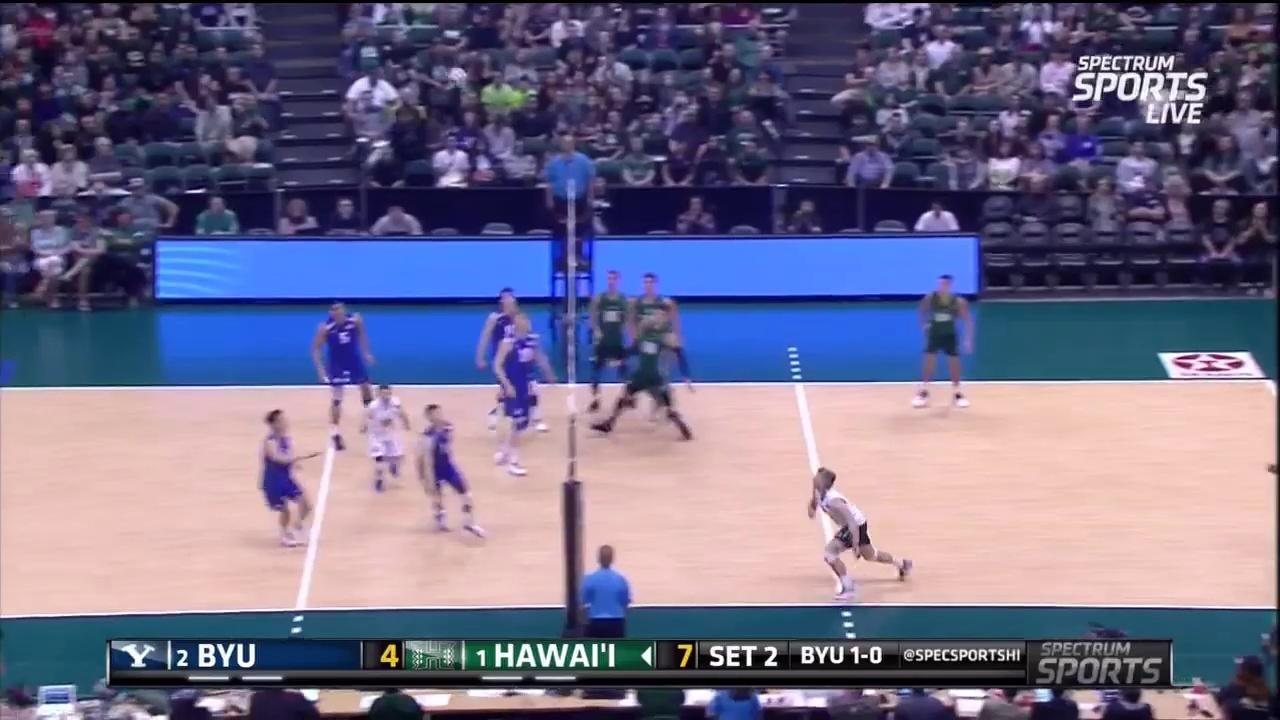player: (808, 470, 910, 592), (596, 308, 690, 440), (476, 282, 556, 431), (312, 294, 386, 454), (624, 256, 698, 399), (415, 406, 481, 538), (915, 274, 972, 411), (491, 311, 538, 475), (256, 414, 314, 546), (588, 264, 634, 407), (361, 379, 407, 501)
refree: (547, 129, 597, 272), (573, 541, 637, 649)
